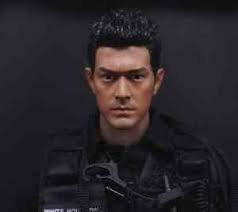asian_male: (73, 24, 160, 143)
